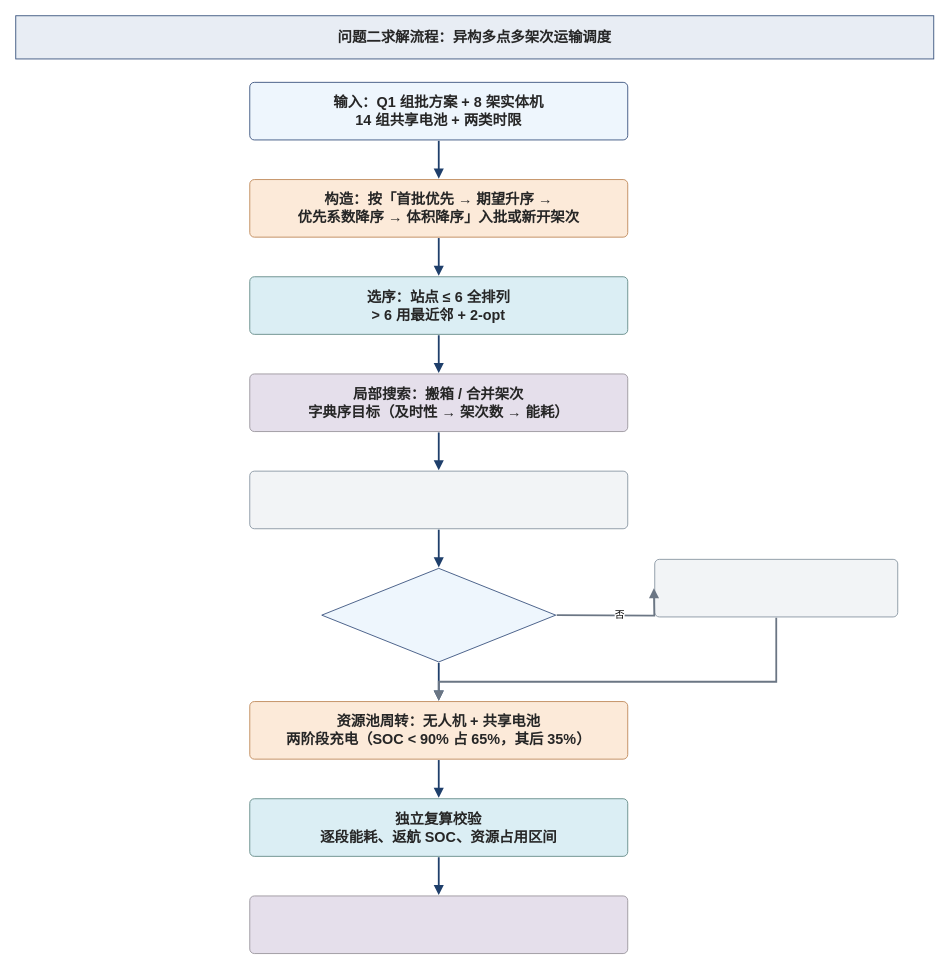
This 950x969 diagram has some shape labels left out. Each missing label, with the box of its shape:
否 ⇒ 等待充电周转 Δ 为两阶段充电时长: (654, 558, 898, 617)
时段驱动贪心派发 每决策时刻在资源就绪架次中择优: (249, 470, 628, 529)
资源就绪？: (321, 567, 556, 662)
输出：14 架次（全 C 型）｜77.94 kWh 完工 5.18 h｜准时率 55.0%（首批超时 17 箱）: (249, 895, 628, 954)
